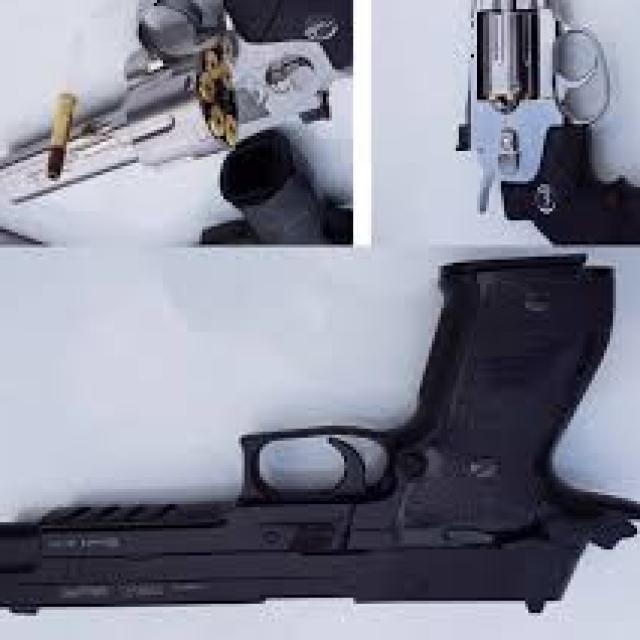gun: (0, 244, 640, 634), (0, 0, 356, 251), (422, 1, 640, 245)
